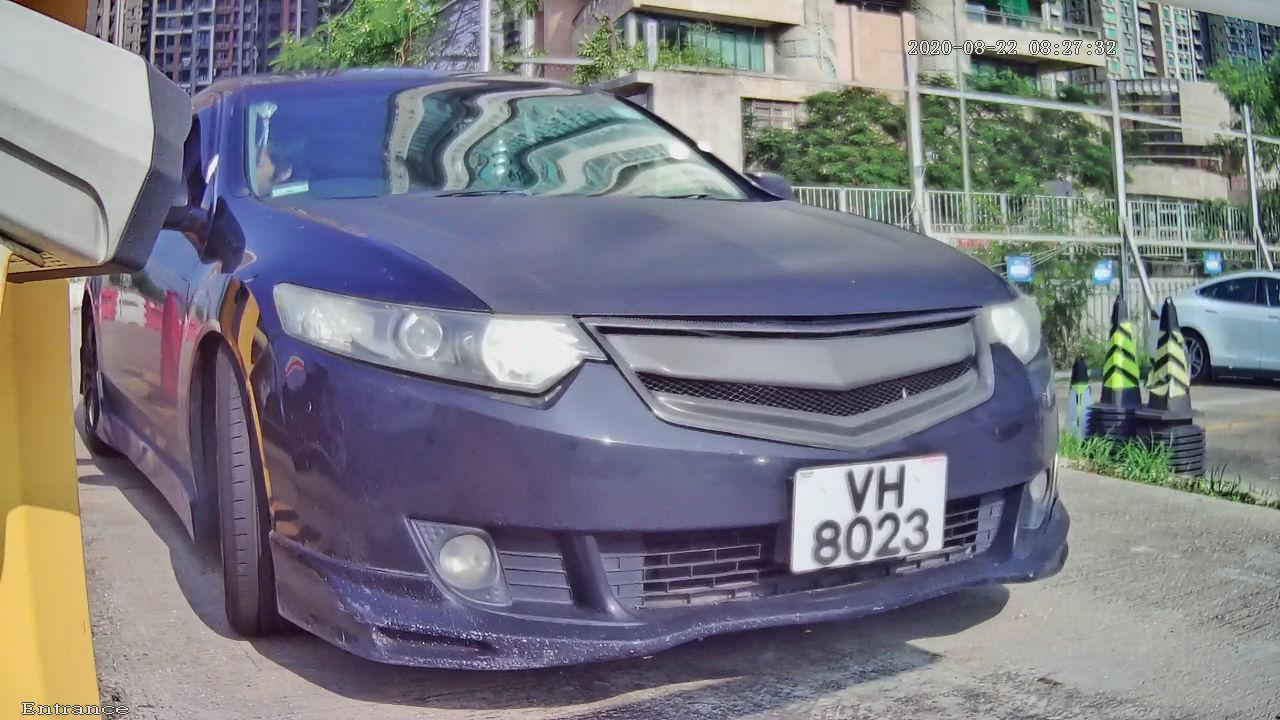Car: (58, 1, 1172, 711)
License Plate: (766, 444, 955, 589)
